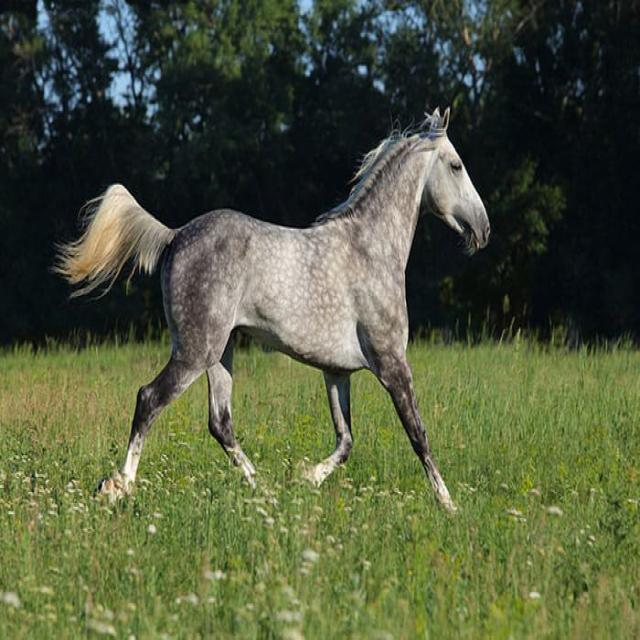Horse: (69, 94, 495, 512)
